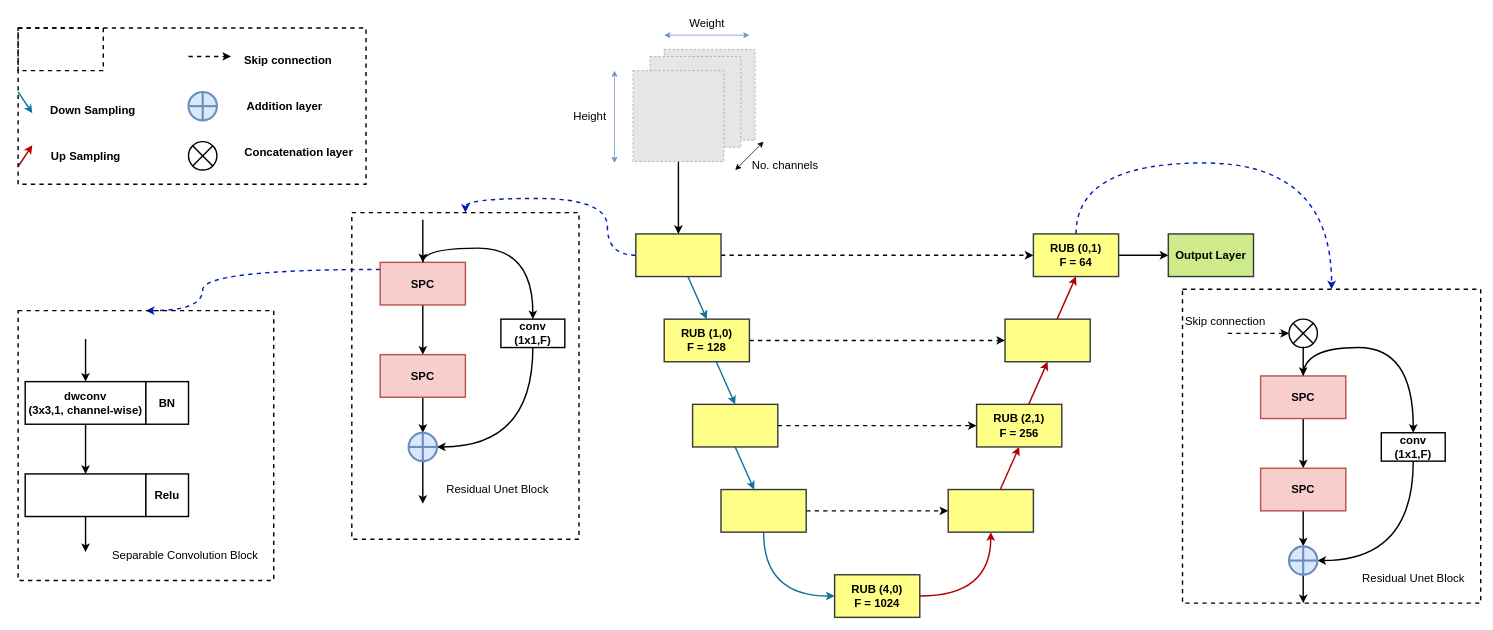
Some shapes in this 1493 by 630 pixel diagram are drawn without their labels. Grey dashed boxes stand in for pictures. The box of each missing label's shape, as (x1, y1, x2, y2) in pixels:
conv (1x1, F): (24, 473, 146, 517)
Legend: (17, 27, 104, 71)
RUB (0,0) F = 64: (635, 233, 721, 277)
RUB (1,1) F = 128: (1004, 318, 1091, 362)
RUB (2,0) F = 256: (692, 403, 778, 447)
RUB (3,0) F = 512: (720, 488, 807, 532)
RUB (3,1) F = 512: (947, 488, 1034, 532)
